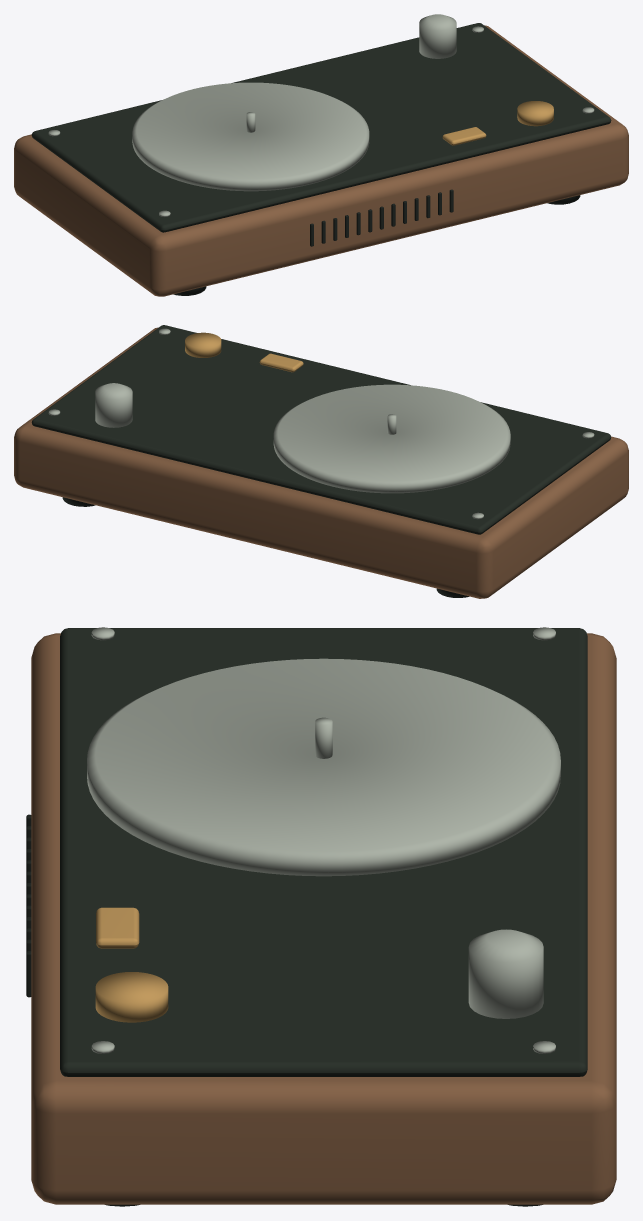
File: turntable.glb
3 views of the same model, one above another, from view 1: azimuth 30°, elevation 25°; view 2: azimuth 150°, elevation 25°; view 3: azimuth 270°, elevation 25° (orthographic). The views are drawn at different scales.
Visible parts, largest first — view 1: Atelier_Turntable; view 2: Atelier_Turntable; view 3: Atelier_Turntable.
Boxes of the visible parts, x1,y1,x2,y2 form: Atelier_Turntable: (14, 14, 628, 296); Atelier_Turntable: (14, 325, 628, 598); Atelier_Turntable: (26, 627, 616, 1206).
Size of the model in its own units: 1.15 by 0.26 by 0.615.
